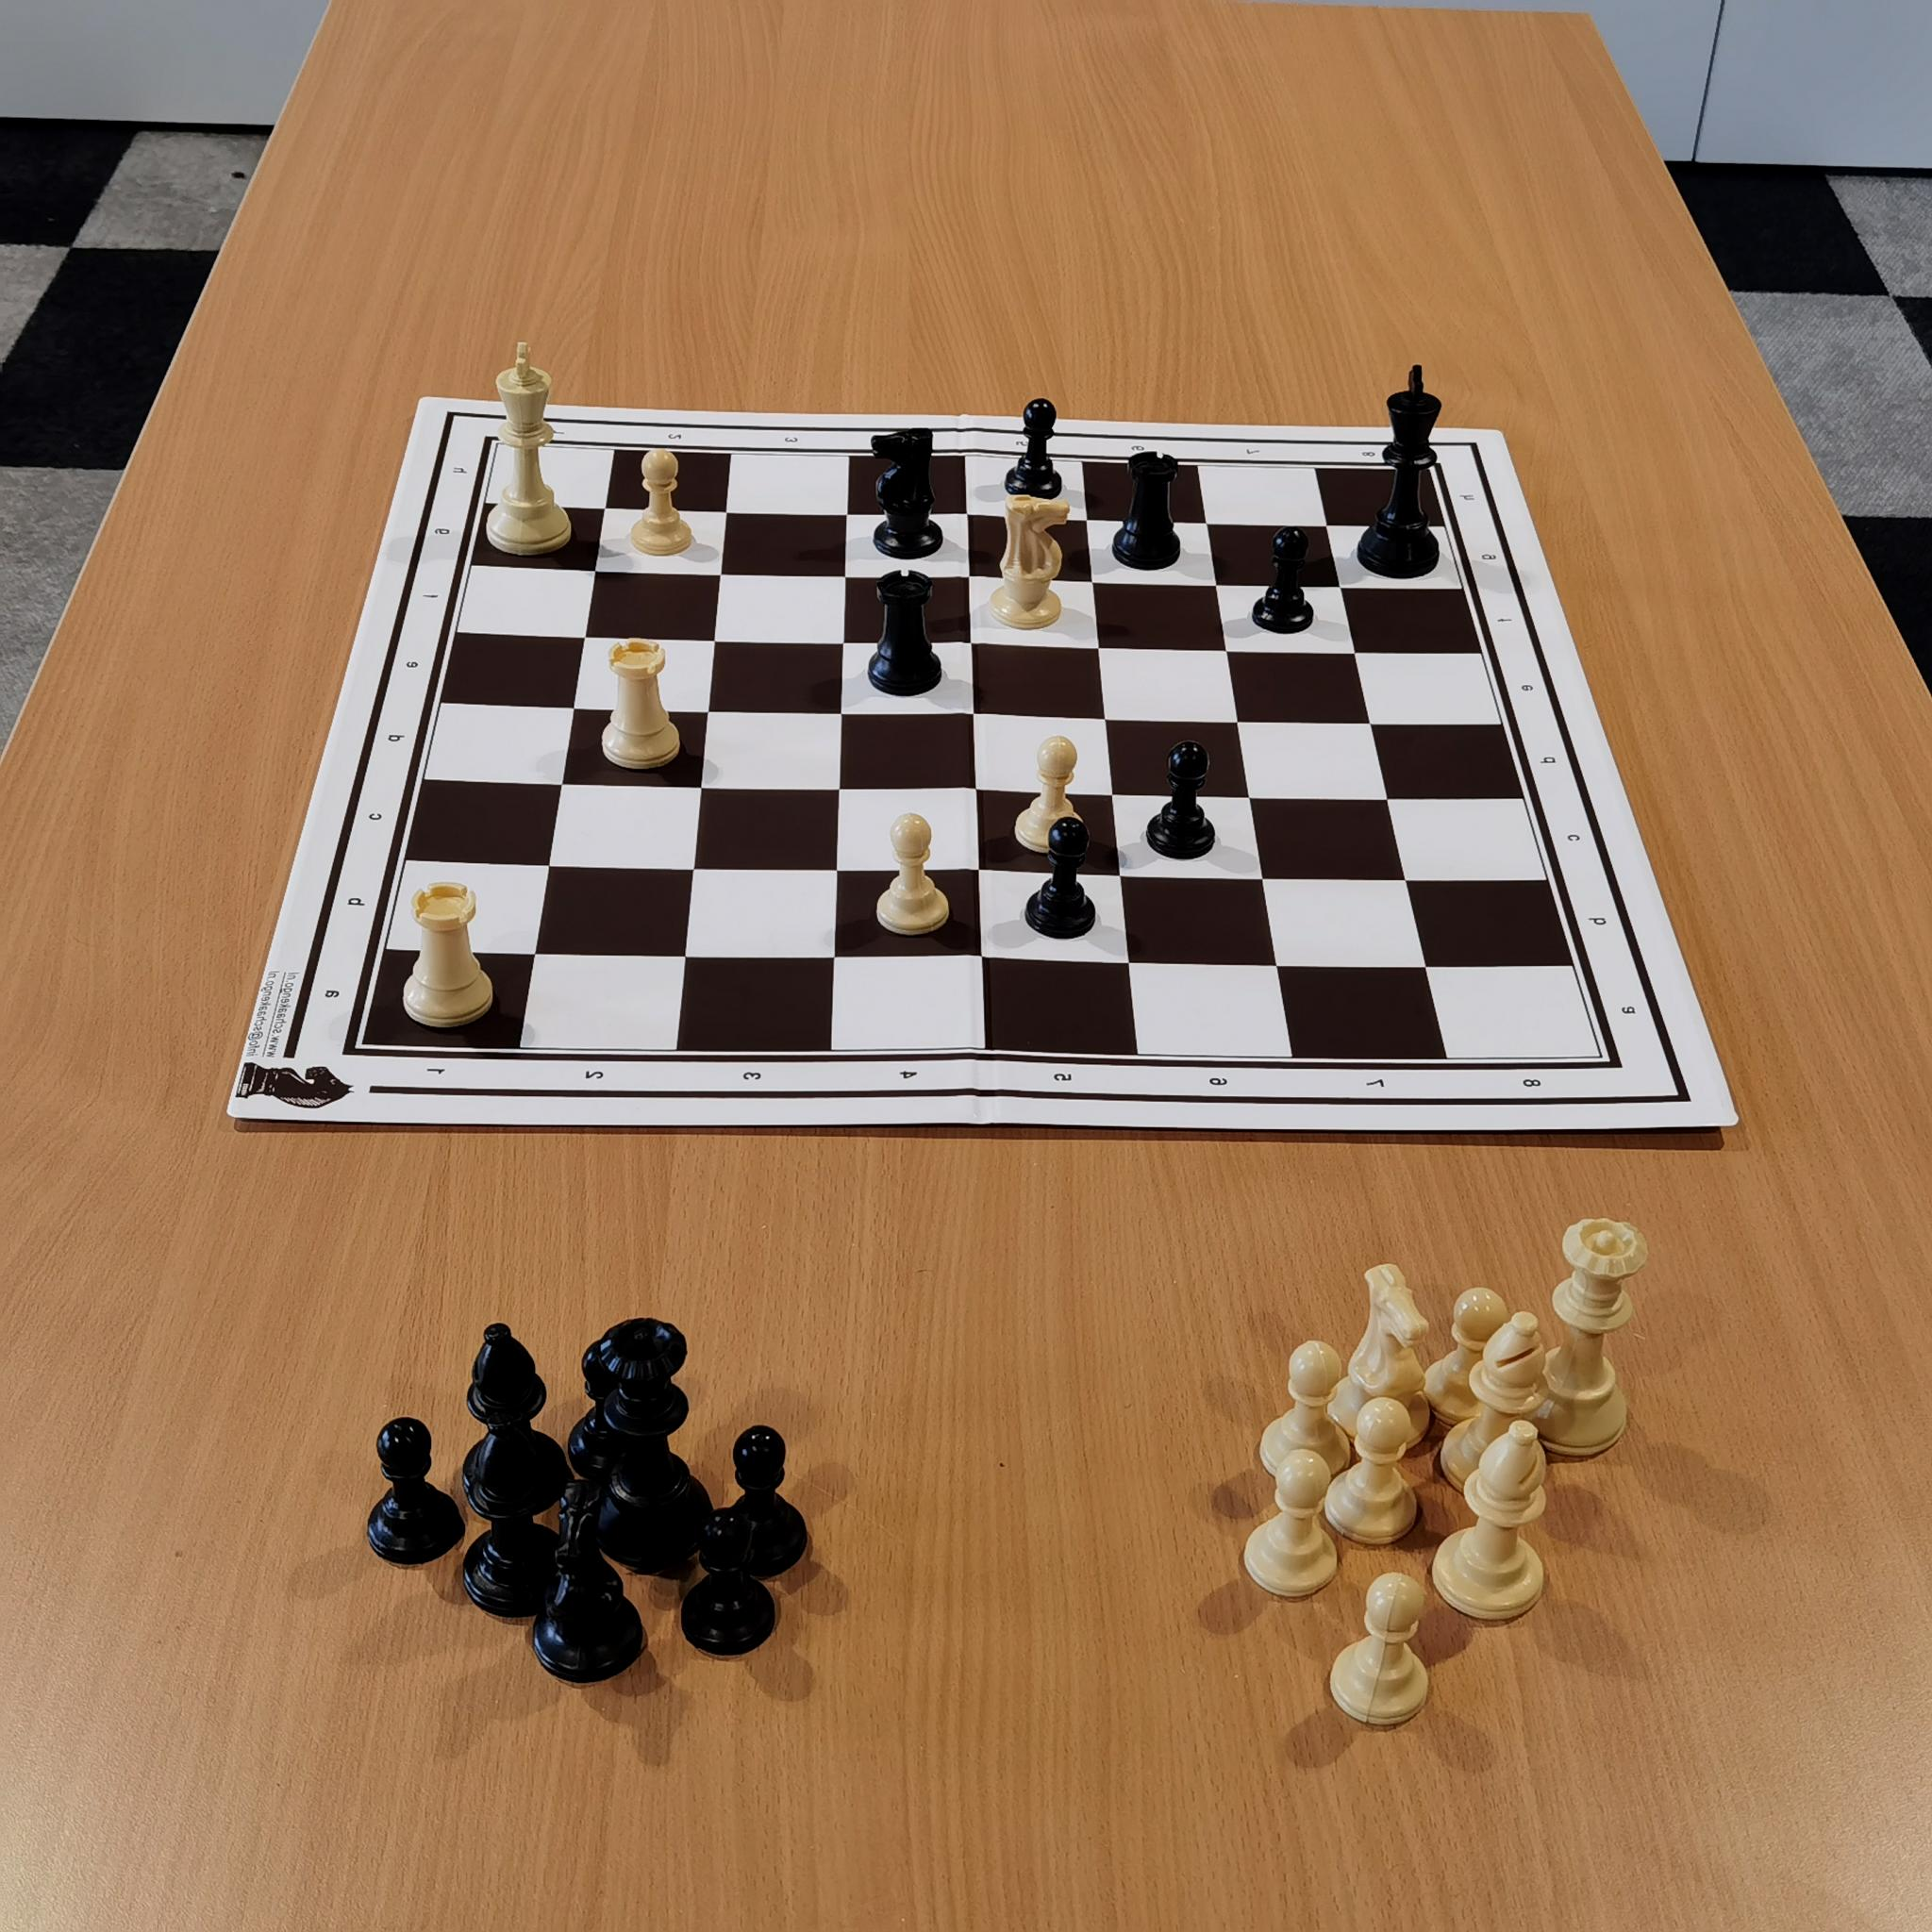corners: (341, 1017, 389, 1072), (474, 426, 520, 465), (1580, 1039, 1617, 1074), (1407, 449, 1440, 485)
eight: (1506, 1058, 1552, 1108), (1352, 442, 1387, 471)
one: (414, 1054, 451, 1088), (545, 421, 570, 446)
